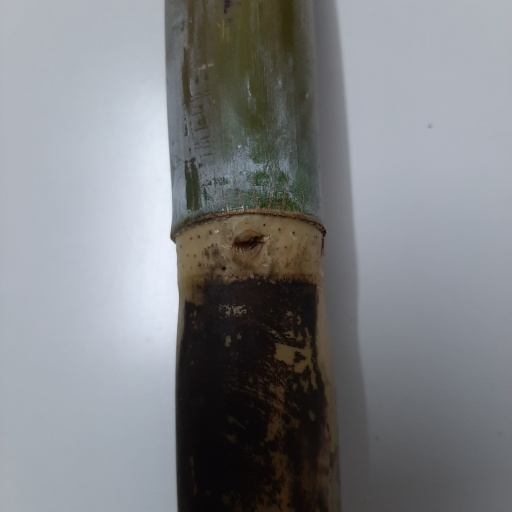Damage_Bud: (231, 228, 268, 272)
